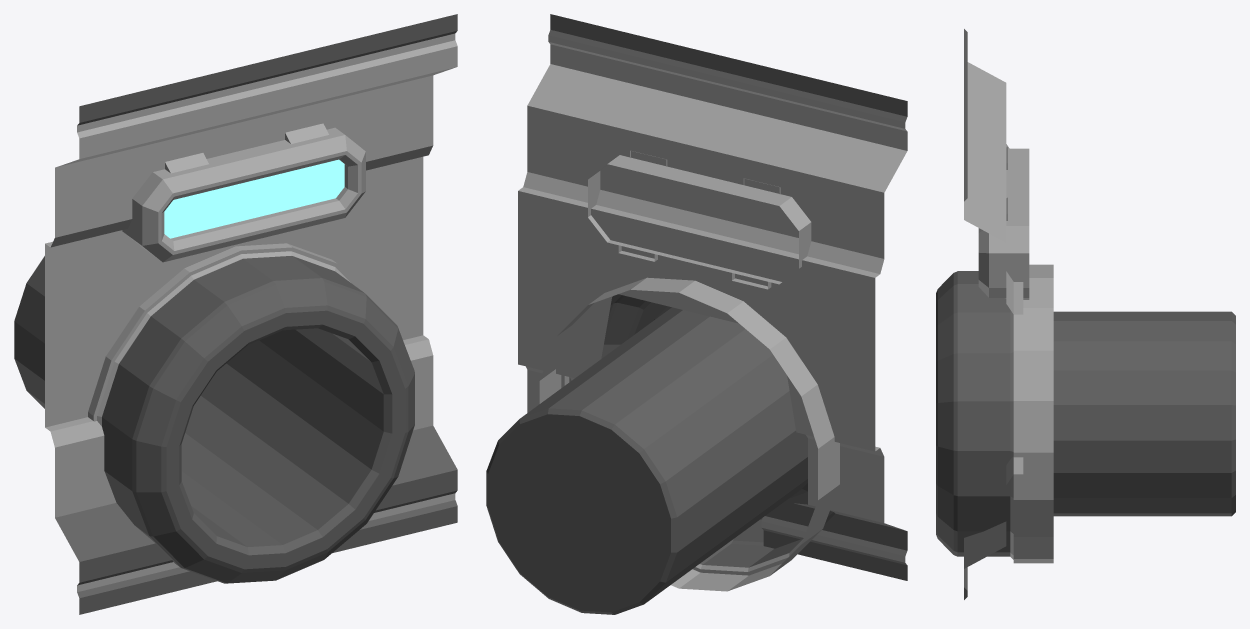
File: SM_WallSectionPodLaunched.fbx
3 renders of one model, left to right at view 1: azimuth 30°, elevation 25°; view 2: azimuth 150°, elevation 25°; view 3: azimuth 270°, elevation 25°, orthographic. The views are drawn at different scales.
Parts seen in each view (by area): view 1: SM_WallSectionPodLaunched; view 2: SM_WallSectionPodLaunched; view 3: SM_WallSectionPodLaunched.
Part boxes in pixels (bbox=[...]): SM_WallSectionPodLaunched: bbox=[14, 14, 457, 614]; SM_WallSectionPodLaunched: bbox=[486, 14, 907, 614]; SM_WallSectionPodLaunched: bbox=[936, 29, 1235, 599].
Bounding box in the file's own units: 200 × 265 × 158.
